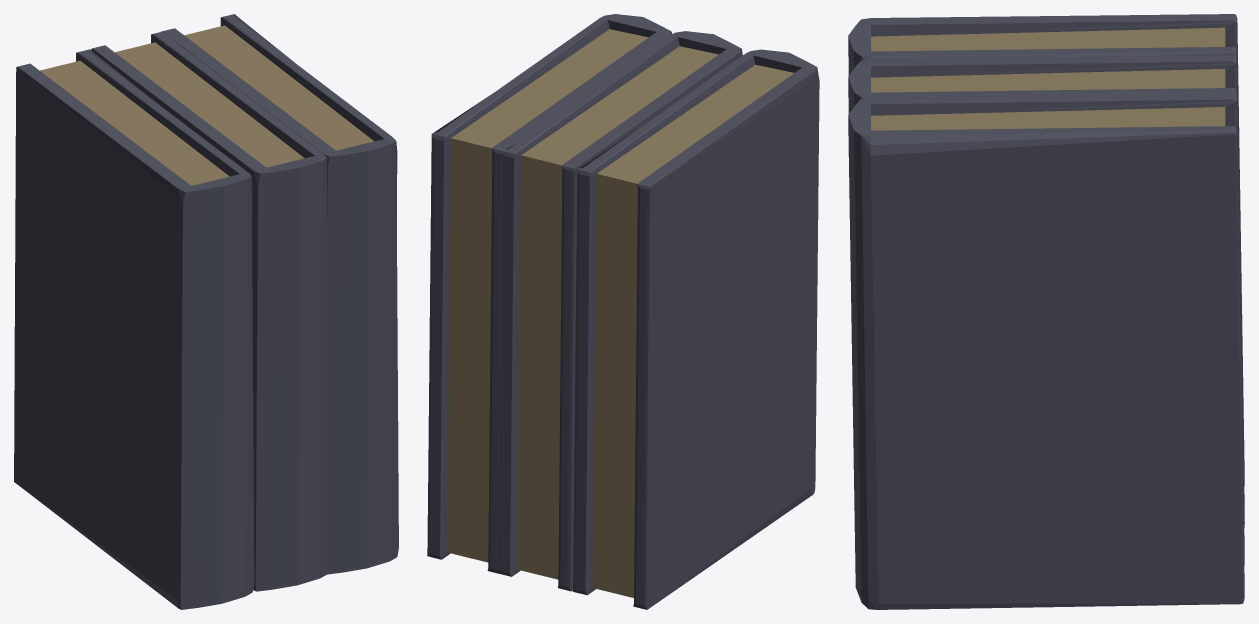
File: book4.fbx
3 views of the same model, side by side, from view 1: azimuth 30°, elevation 25°; view 2: azimuth 150°, elevation 25°; view 3: azimuth 270°, elevation 25° (orthographic). The views are drawn at different scales.
Parts seen in each view (by area): view 1: 3 book; view 2: 3 book; view 3: 3 book.
Boxes of the visible parts, x1,y1,x2,y2 form: 3 book: (14, 14, 398, 609); 3 book: (427, 14, 819, 609); 3 book: (848, 14, 1244, 609).
Bounding box in the file's own units: 23.78 × 44.02 × 33.17.
